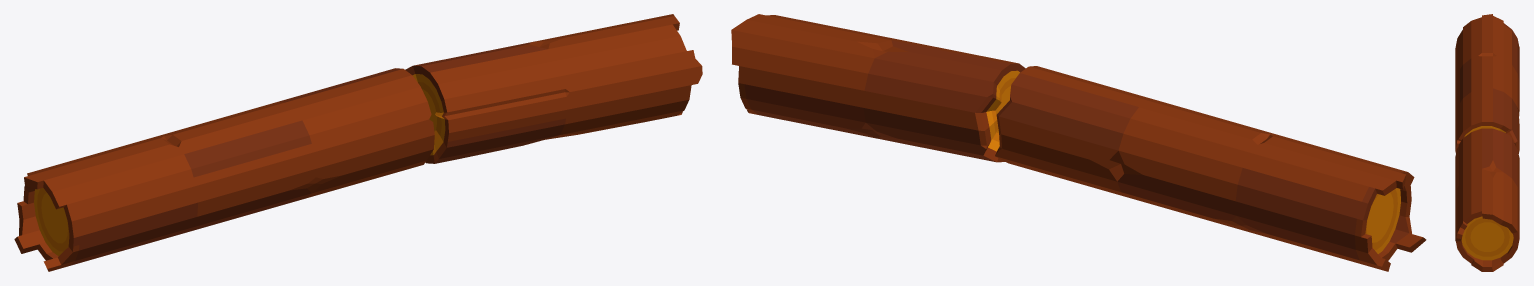
Rendered from Broken log_7.fbx.
3 views of the same model, side by side, from view 1: azimuth 30°, elevation 25°; view 2: azimuth 150°, elevation 25°; view 3: azimuth 270°, elevation 25° (orthographic). The views are drawn at different scales.
Visible parts, largest first — view 1: Circle.008, Circle.011; view 2: Circle.008, Circle.011; view 3: Circle.011, Circle.008.
Boxes of the visible parts, x1,y1,x2,y2 form: Circle.008: (14,68,434,271); Circle.011: (405,14,702,163); Circle.008: (995,66,1426,271); Circle.011: (731,14,1025,162); Circle.011: (1455,128,1519,271); Circle.008: (1455,14,1519,153).
Bounding box in the file's own units: 178 × 27.07 × 23.56.
